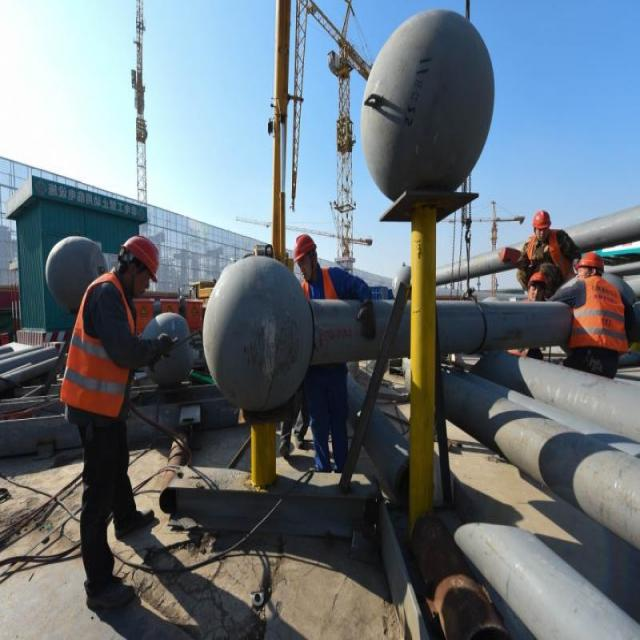Reflective-Jacket: (62, 272, 134, 424), (569, 276, 627, 350)
Safety-Helmet: (122, 232, 162, 278), (576, 246, 606, 272), (292, 230, 318, 259), (531, 206, 553, 229)
